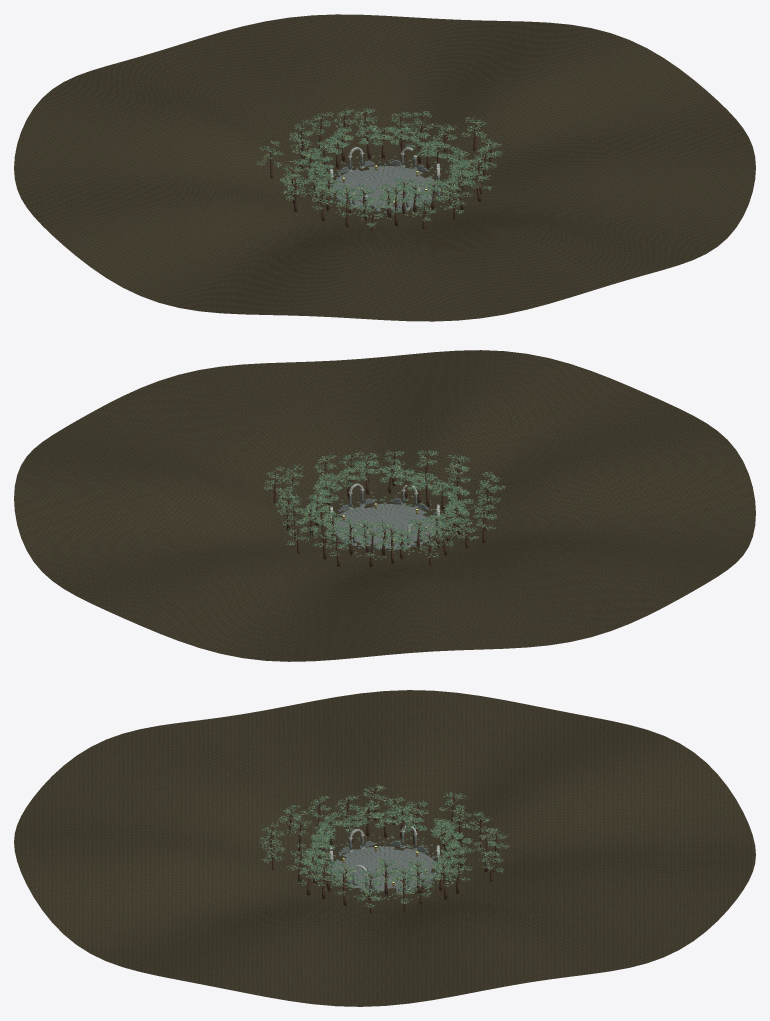
File: emberwood-ruin.glb
3 views of the same model, one above another, from view 1: azimuth 30°, elevation 25°; view 2: azimuth 150°, elevation 25°; view 3: azimuth 270°, elevation 25° (orthographic).
Visible parts, largest first — view 1: Forest loam • moss and roots, Ancient bark • vertical grain, Leaf • 3, Leaf • 2, Leaf • 0, Leaf • 1, Weathered slate • porous stone; view 2: Forest loam • moss and roots, Ancient bark • vertical grain, Leaf • 3, Leaf • 1, Leaf • 0, Leaf • 2, Weathered slate • porous stone; view 3: Forest loam • moss and roots, Ancient bark • vertical grain, Leaf • 3, Leaf • 1, Leaf • 2, Weathered slate • porous stone, Leaf • 0.
Boxes of the visible parts, x1,y1,x2,y2 form: Forest loam • moss and roots: [14, 14, 755, 321]; Ancient bark • vertical grain: [261, 109, 497, 231]; Leaf • 3: [258, 108, 501, 227]; Leaf • 2: [257, 109, 501, 227]; Leaf • 0: [257, 108, 502, 225]; Leaf • 1: [257, 107, 501, 226]; Weathered slate • porous stone: [325, 154, 444, 213]; Forest loam • moss and roots: [14, 350, 755, 661]; Ancient bark • vertical grain: [266, 451, 500, 566]; Leaf • 3: [264, 450, 505, 559]; Leaf • 1: [264, 450, 506, 559]; Leaf • 0: [264, 450, 503, 559]; Leaf • 2: [264, 450, 504, 559]; Weathered slate • porous stone: [327, 491, 441, 550]; Forest loam • moss and roots: [14, 690, 755, 1006]; Ancient bark • vertical grain: [264, 785, 503, 913]; Leaf • 3: [261, 785, 509, 907]; Leaf • 1: [259, 786, 508, 907]; Leaf • 2: [259, 784, 508, 906]; Weathered slate • porous stone: [324, 833, 440, 893]; Leaf • 0: [260, 786, 506, 907].
Bounding box in the file's own units: 250 × 15.26 × 250.
12 materials, 3 textured.
